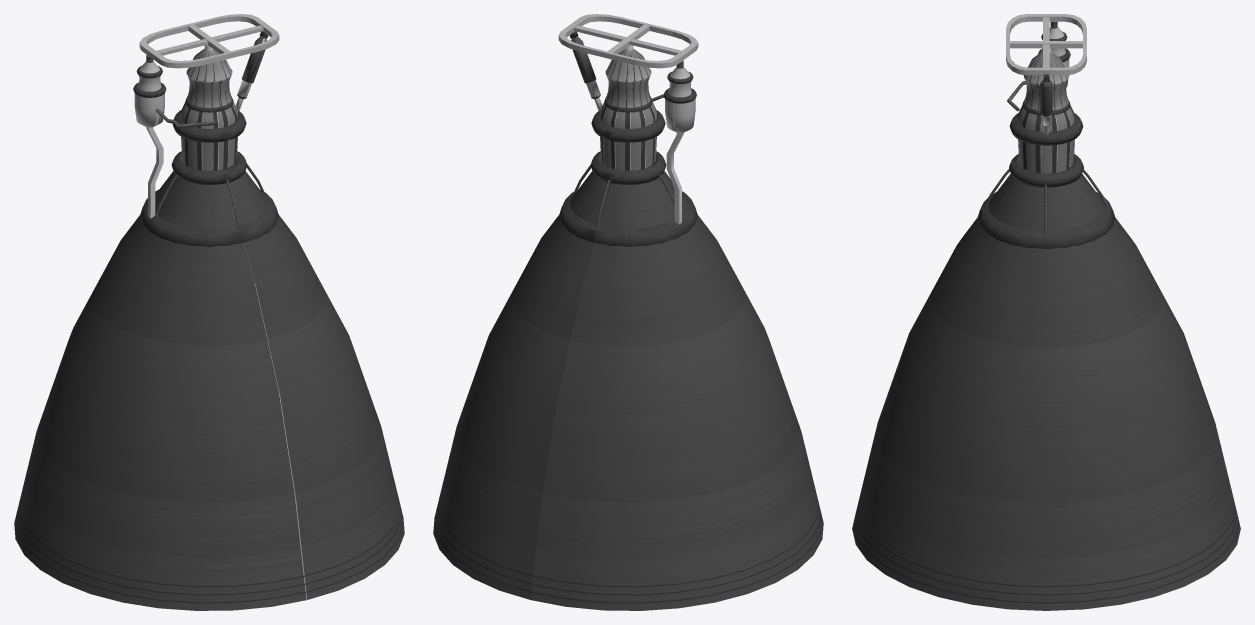
The model's file is RaptorVac_Single.fbx.
The picture shows the model from 3 angles, left to right: view 1: azimuth 30°, elevation 25°; view 2: azimuth 150°, elevation 25°; view 3: azimuth 270°, elevation 25°; orthographic projection.
Visible parts, largest first — view 1: Engine.002, Engine, Engine.001, Cylinder.004; view 2: Engine.002, Engine, Engine.001, Cylinder.004; view 3: Engine.002, Engine, Engine.001.
Part boxes in pixels (left/top/right/bottom): Engine.002: left=14, top=171, right=404, bottom=610; Engine: left=133, top=31, right=278, bottom=246; Engine.001: left=139, top=14, right=279, bottom=68; Cylinder.004: left=146, top=127, right=163, bottom=218; Engine.002: left=433, top=171, right=823, bottom=610; Engine: left=559, top=31, right=697, bottom=246; Engine.001: left=558, top=14, right=698, bottom=68; Cylinder.004: left=666, top=133, right=683, bottom=224; Engine.002: left=852, top=174, right=1240, bottom=610; Engine: left=977, top=21, right=1115, bottom=248; Engine.001: left=1006, top=14, right=1086, bottom=75.
Size of what is drawn, in the model's own units: 191 by 264 by 191.
